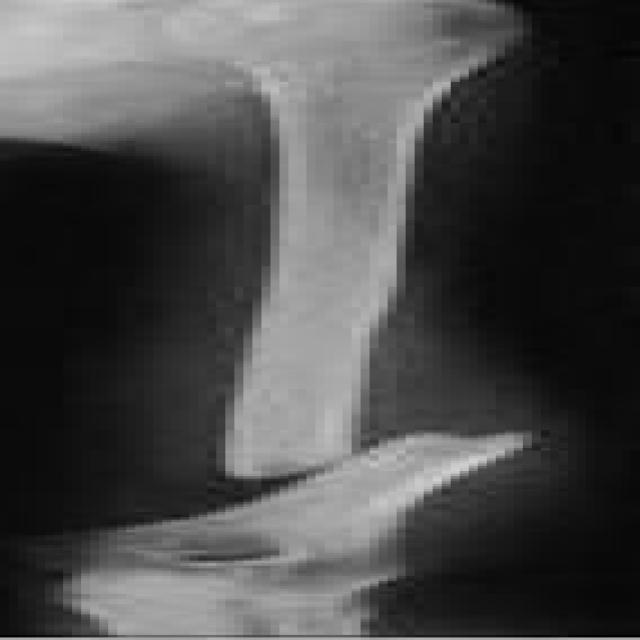Broken: (215, 80, 446, 482), (136, 438, 525, 534)
